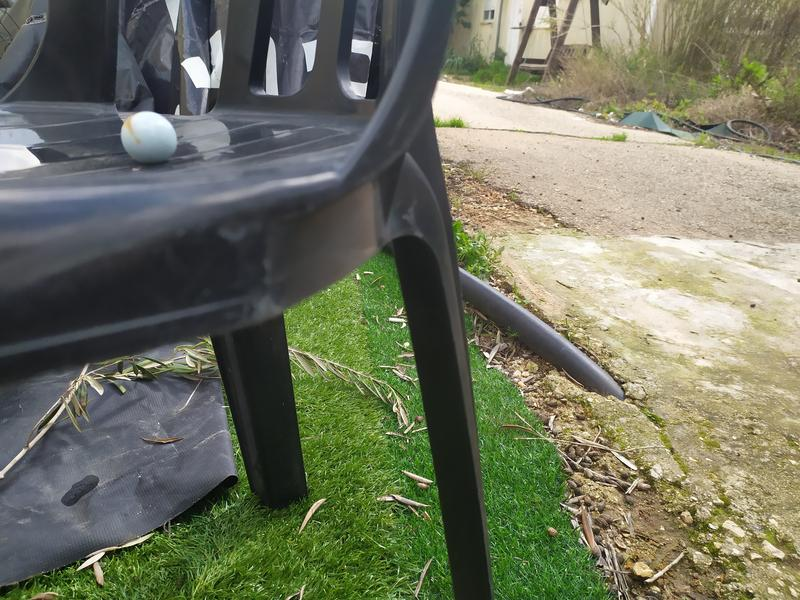Warning: (118, 109, 180, 166)
